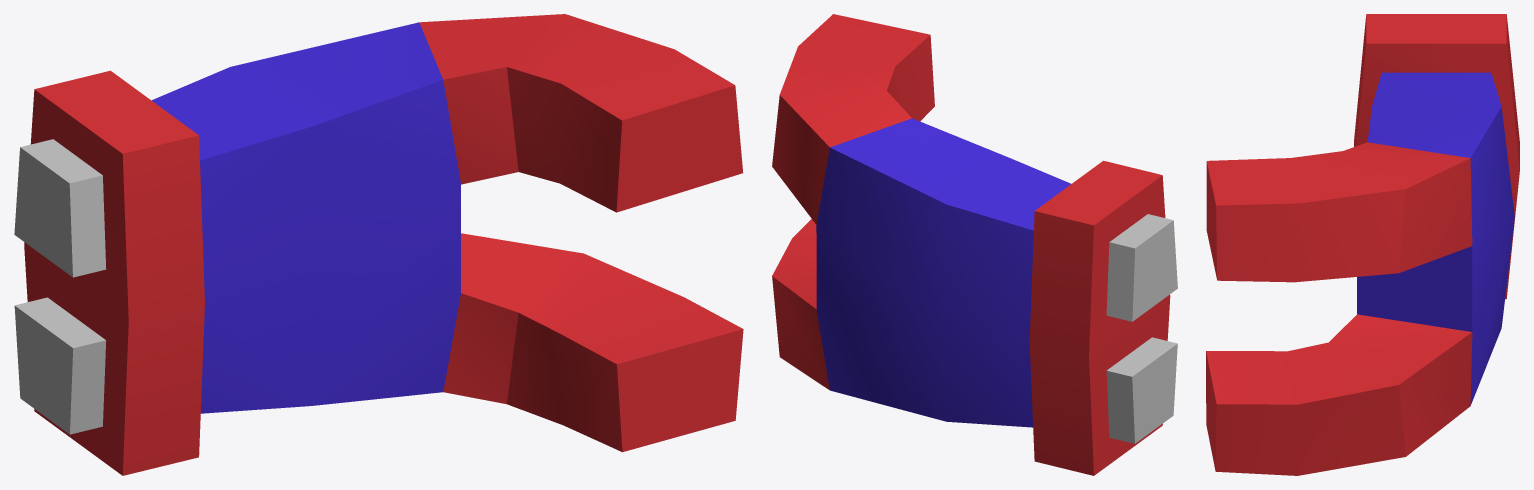
File: L Hand 02.FBX
3 views of the same model, side by side, from view 1: azimuth 30°, elevation 25°; view 2: azimuth 150°, elevation 25°; view 3: azimuth 270°, elevation 25° (orthographic). The views are drawn at different scales.
Parts seen in each view (by area): view 1: L Hand 02; view 2: L Hand 02; view 3: L Hand 02.
Boxes of the visible parts, x1,y1,x2,y2 form: L Hand 02: [14, 14, 743, 475]; L Hand 02: [772, 14, 1177, 475]; L Hand 02: [1206, 14, 1519, 475].
Size of the model in its own units: 32.54 by 19.07 by 19.84.
Materials: 1 (1 with a texture image).
